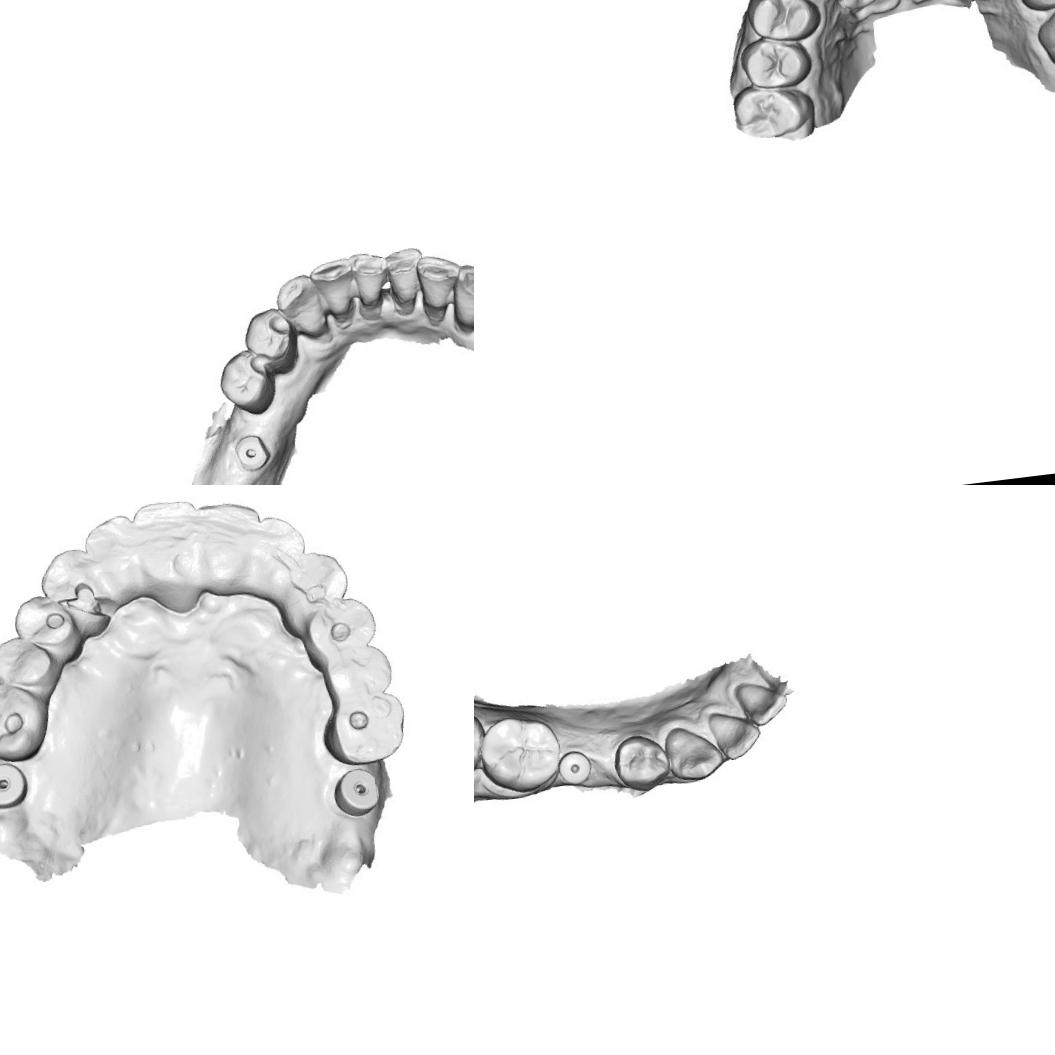canine: (40, 546, 108, 638), (284, 548, 353, 626), (661, 720, 730, 788), (274, 271, 334, 344), (448, 258, 474, 330)
implant: (328, 764, 384, 818), (231, 432, 271, 476), (0, 760, 32, 812), (558, 751, 592, 790)
incisor: (127, 495, 209, 596), (194, 493, 267, 598), (252, 510, 314, 602), (82, 514, 141, 608), (308, 255, 369, 334), (378, 245, 432, 325), (349, 249, 402, 322), (728, 676, 792, 729), (415, 255, 459, 327), (707, 706, 761, 763)
molar: (313, 690, 411, 771), (480, 712, 566, 796), (729, 80, 818, 148), (0, 677, 55, 765)
premolar: (302, 591, 378, 662), (14, 592, 81, 668), (737, 30, 812, 94), (318, 644, 394, 706), (607, 727, 673, 797), (216, 349, 276, 415), (0, 628, 59, 694), (240, 300, 298, 366), (741, 0, 817, 48)
